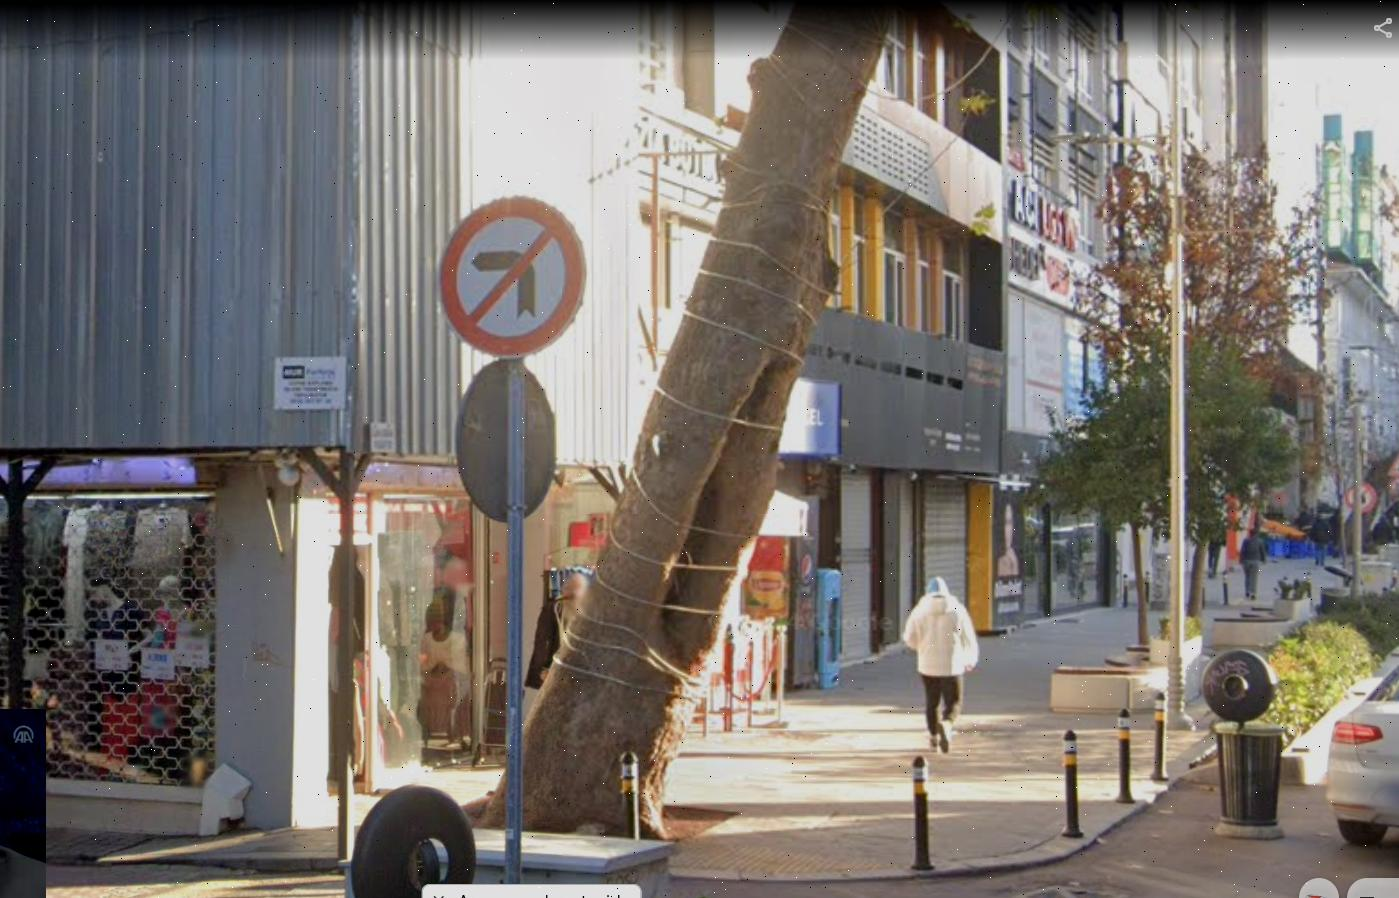leftturnsareforbidden: (444, 203, 583, 347)
